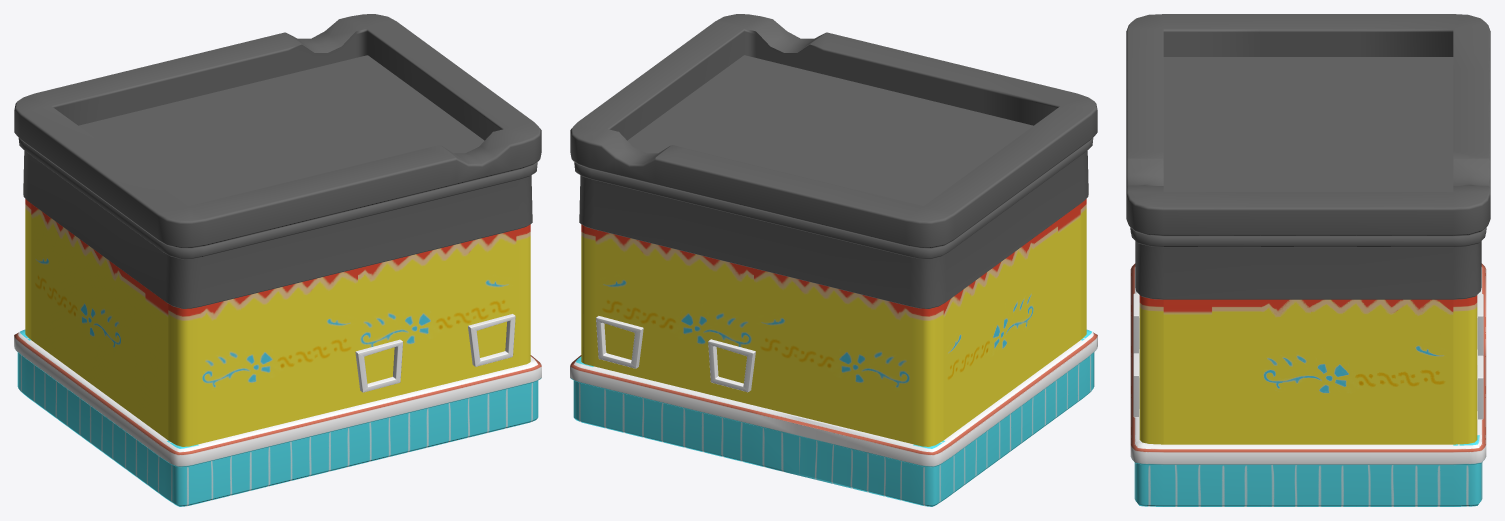
The model's file is desert_building_house_02_fbx.fbx.
The picture shows the model from 3 angles, left to right: view 1: azimuth 30°, elevation 25°; view 2: azimuth 150°, elevation 25°; view 3: azimuth 270°, elevation 25°; orthographic projection. The views are drawn at different scales.
Visible parts, largest first — view 1: desert_building_house_02_05, desert_building_house_02_01, desert_building_house_02_06, desert_building_house_02_04, desert_building_house_02_02, desert_building_house_02_03, desert_building_house_02_07; view 2: desert_building_house_02_05, desert_building_house_02_01, desert_building_house_02_06, desert_building_house_02_04, desert_building_house_02_02, desert_building_house_02_03, desert_building_house_02_07; view 3: desert_building_house_02_07, desert_building_house_02_05, desert_building_house_02_06, desert_building_house_02_01, desert_building_house_02_04, desert_building_house_02_02.
Boxes of the visible parts, bbox=[...] form: desert_building_house_02_05: bbox=[14, 14, 541, 248]; desert_building_house_02_01: bbox=[14, 314, 541, 506]; desert_building_house_02_06: bbox=[78, 55, 484, 206]; desert_building_house_02_04: bbox=[18, 138, 537, 308]; desert_building_house_02_02: bbox=[25, 199, 530, 446]; desert_building_house_02_03: bbox=[199, 268, 357, 443]; desert_building_house_02_07: bbox=[31, 204, 168, 439]; desert_building_house_02_05: bbox=[570, 14, 1097, 248]; desert_building_house_02_01: bbox=[570, 316, 1097, 506]; desert_building_house_02_06: bbox=[627, 55, 1033, 206]; desert_building_house_02_04: bbox=[574, 138, 1093, 308]; desert_building_house_02_02: bbox=[581, 199, 1086, 446]; desert_building_house_02_03: bbox=[754, 268, 912, 443]; desert_building_house_02_07: bbox=[943, 204, 1080, 439]; desert_building_house_02_07: bbox=[1163, 299, 1453, 444]; desert_building_house_02_05: bbox=[1126, 14, 1490, 236]; desert_building_house_02_06: bbox=[1163, 57, 1453, 191]; desert_building_house_02_01: bbox=[1130, 263, 1486, 506]; desert_building_house_02_04: bbox=[1130, 227, 1486, 299]; desert_building_house_02_02: bbox=[1139, 295, 1477, 444].
Bounding box in the file's own units: 929 × 675 × 735.
